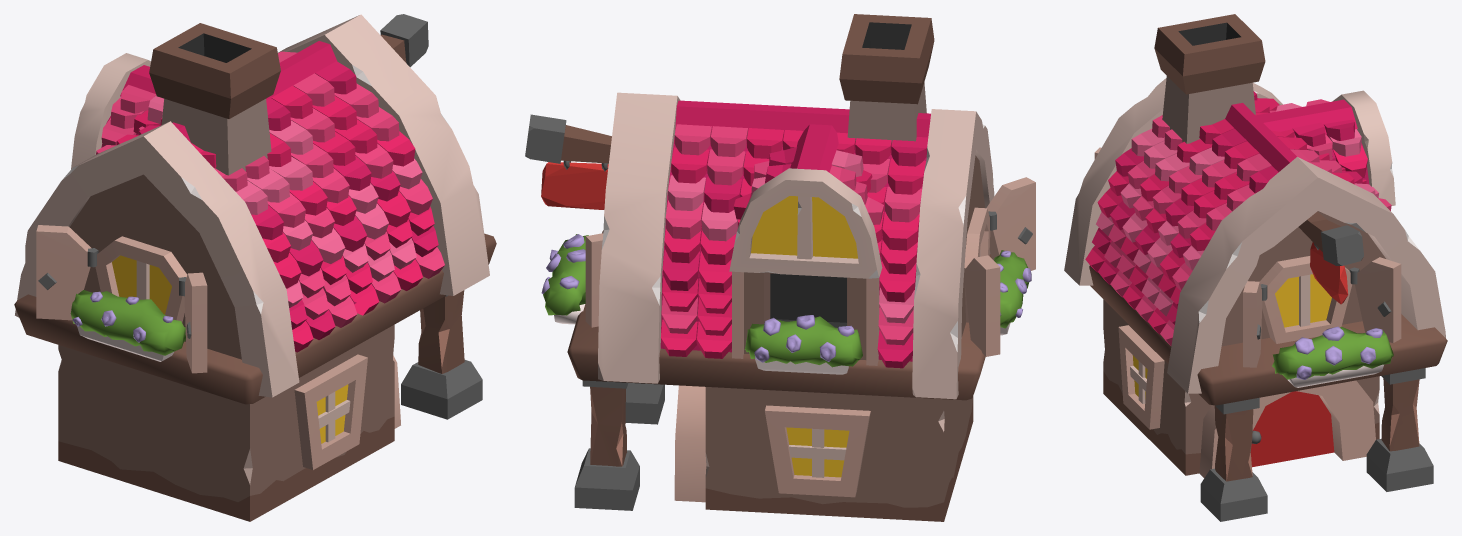
File: n4_house_002_lev4.003.glb
3 views of the same model, side by side, from view 1: azimuth 30°, elevation 25°; view 2: azimuth 150°, elevation 25°; view 3: azimuth 270°, elevation 25° (orthographic). The views are drawn at different scales.
Parts seen in each view (by area): view 1: n4_house_002_lev4.003; view 2: n4_house_002_lev4.003; view 3: n4_house_002_lev4.003.
Part boxes in pixels (x1,y1,x2,y2): n4_house_002_lev4.003: [14, 14, 496, 521]; n4_house_002_lev4.003: [525, 14, 1035, 521]; n4_house_002_lev4.003: [1064, 14, 1447, 521].
Bounding box in the file's own units: 11.07 × 10.33 × 9.69.
Materials: 1 (1 with a texture image).
